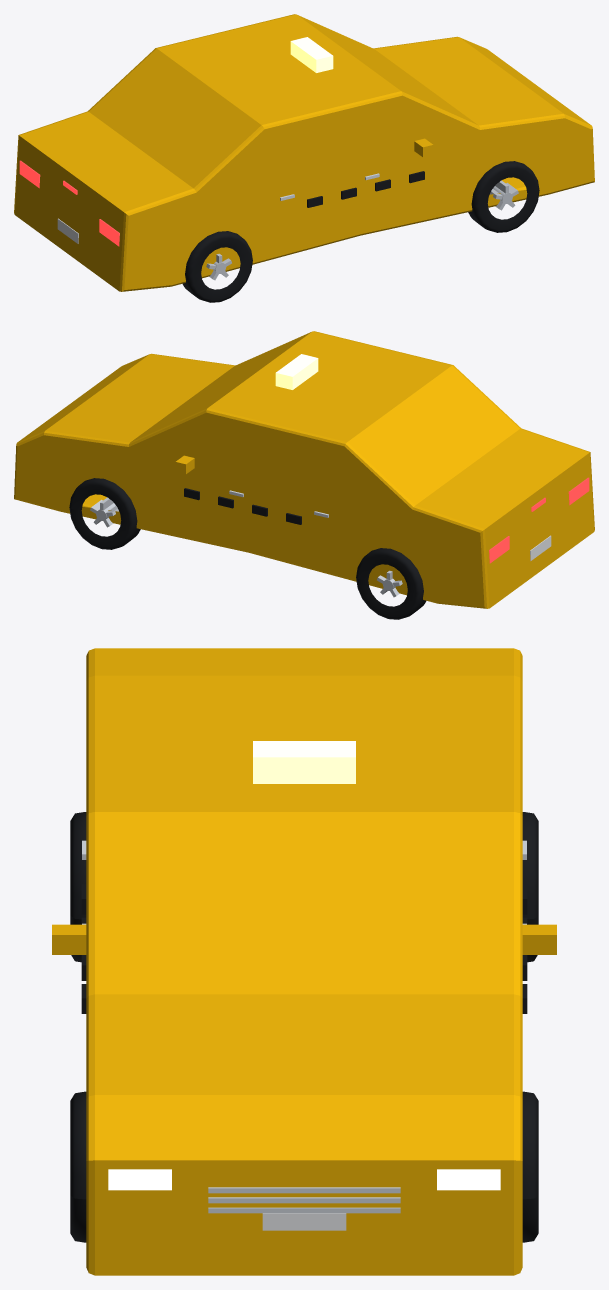
File: carro_taxi.glb
3 renders of one model, top to bottom at view 1: azimuth 30°, elevation 25°; view 2: azimuth 150°, elevation 25°; view 3: azimuth 270°, elevation 25°, orthographic. The views are drawn at different scales.
Size of the model in its own units: 4.47 by 1.59 by 2.06.
